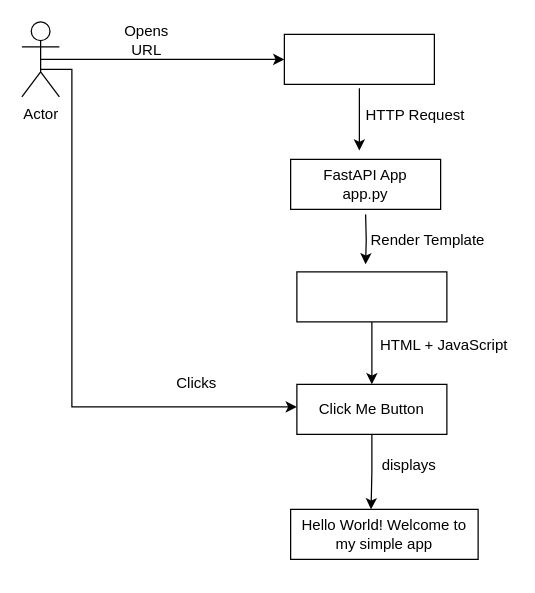
The diagram is 535 pixels wide and 593 high, and some of its shapes have lost their labels. The shapes that lost their labels are listed below. From the top down, each one's centre as x and y in pixels, then its label:
At point 358,58: "Browser (localhost)".
At point 371,296: "templates / index.html".
